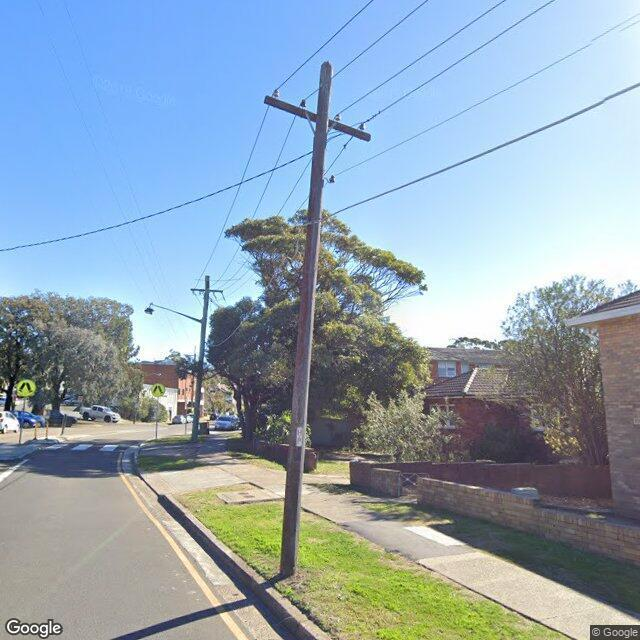crossarm: (264, 94, 372, 142), (191, 288, 223, 294)
streetlight: (144, 302, 202, 323)
timber-pole: (278, 62, 334, 578), (192, 274, 210, 441)
